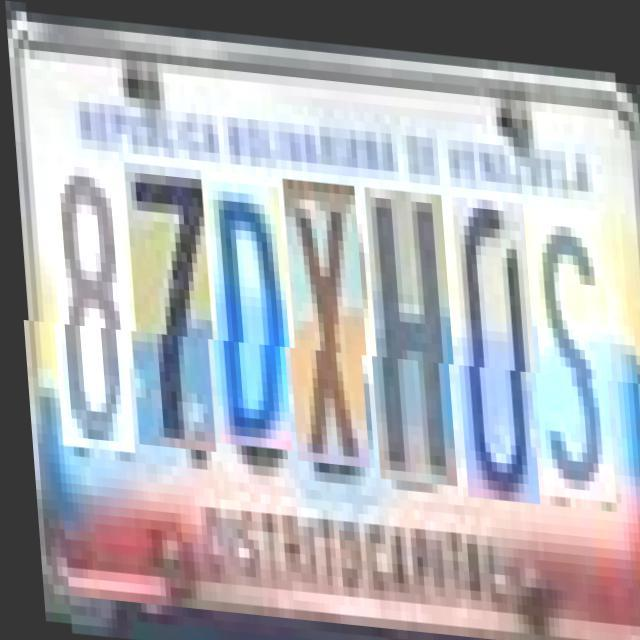0: (449, 186, 538, 494)
7: (122, 160, 215, 449)
8: (45, 163, 133, 451)
D: (204, 177, 291, 446)
H: (362, 180, 456, 478)
S: (526, 192, 615, 490)
X: (280, 173, 368, 461)
